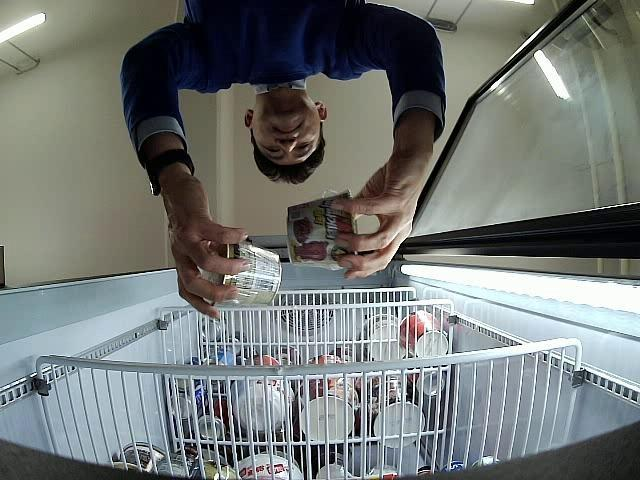04_chapagetti_S: (286, 191, 358, 270), (202, 241, 282, 306)
